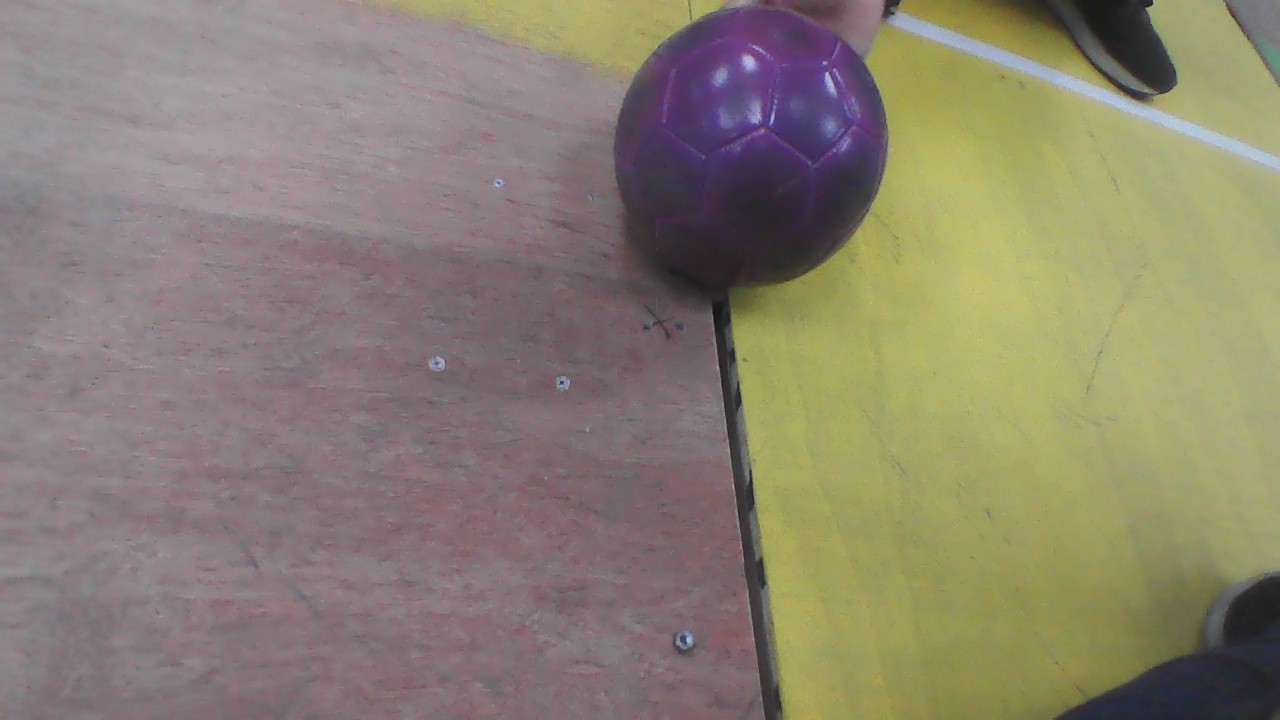Purple: (612, 7, 889, 287)
